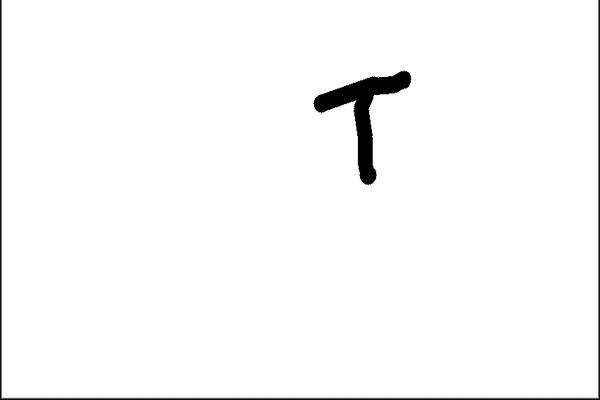T: (311, 56, 424, 191)
